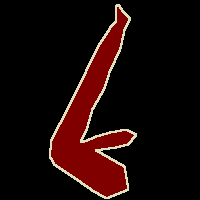tie: (50, 4, 136, 198)
